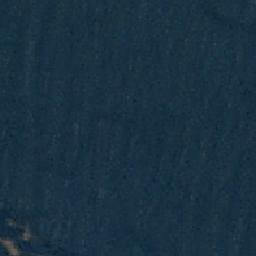debris: (1, 237, 16, 249), (21, 224, 31, 239)
